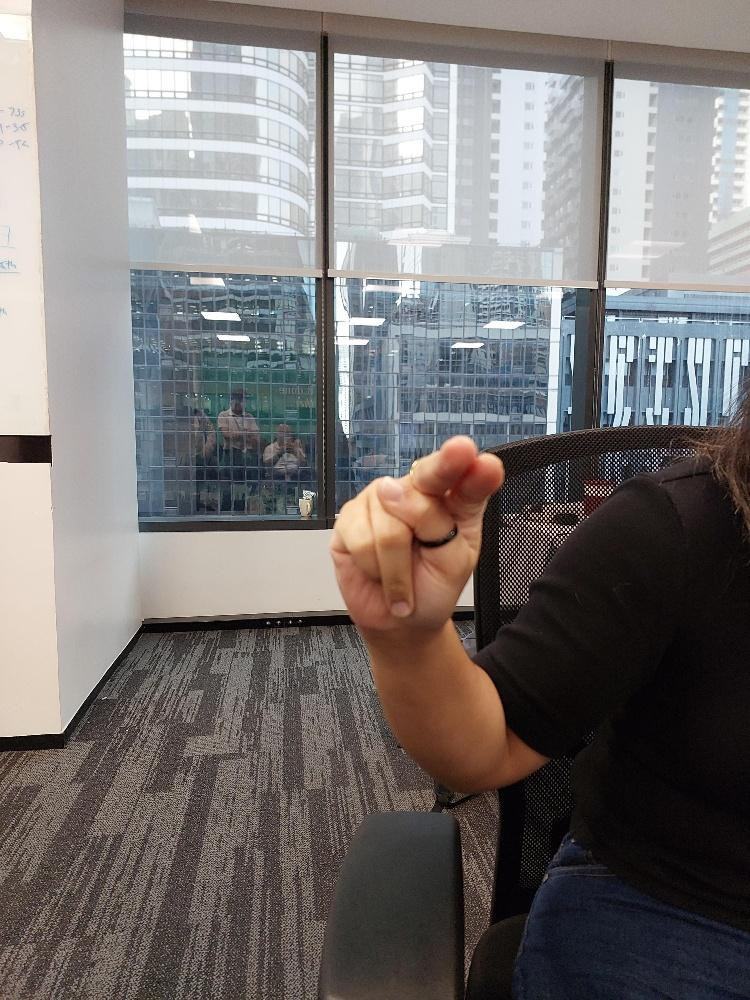n: (326, 431, 506, 641)
